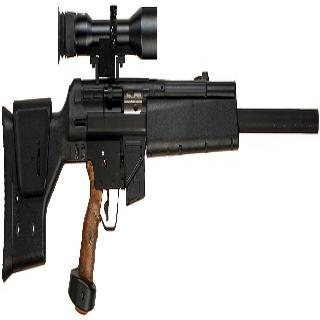gun: (0, 0, 319, 300)
